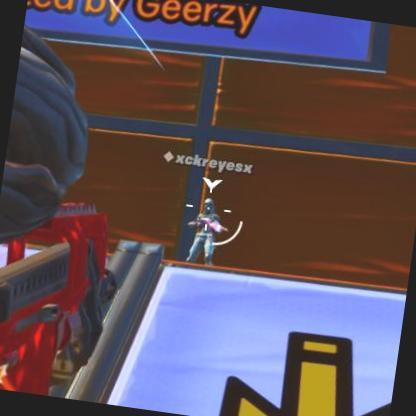person: (185, 195, 227, 268)
